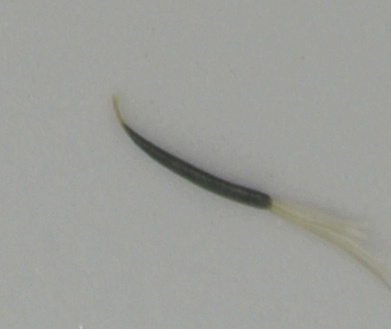เมล็ดดีเรียวยาว: (107, 97, 384, 271)
